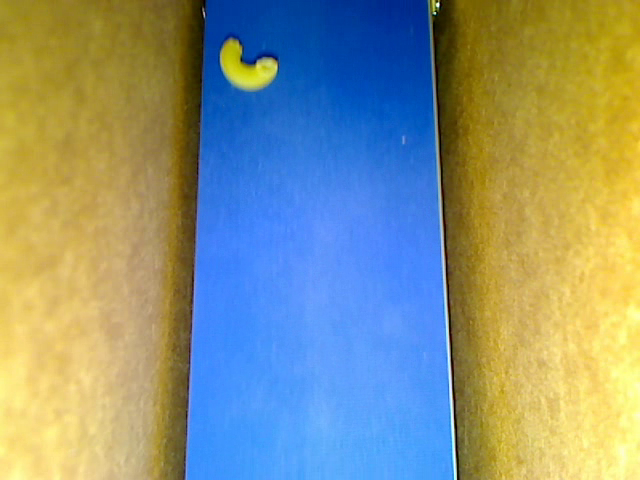elbow: (220, 37, 276, 90)
